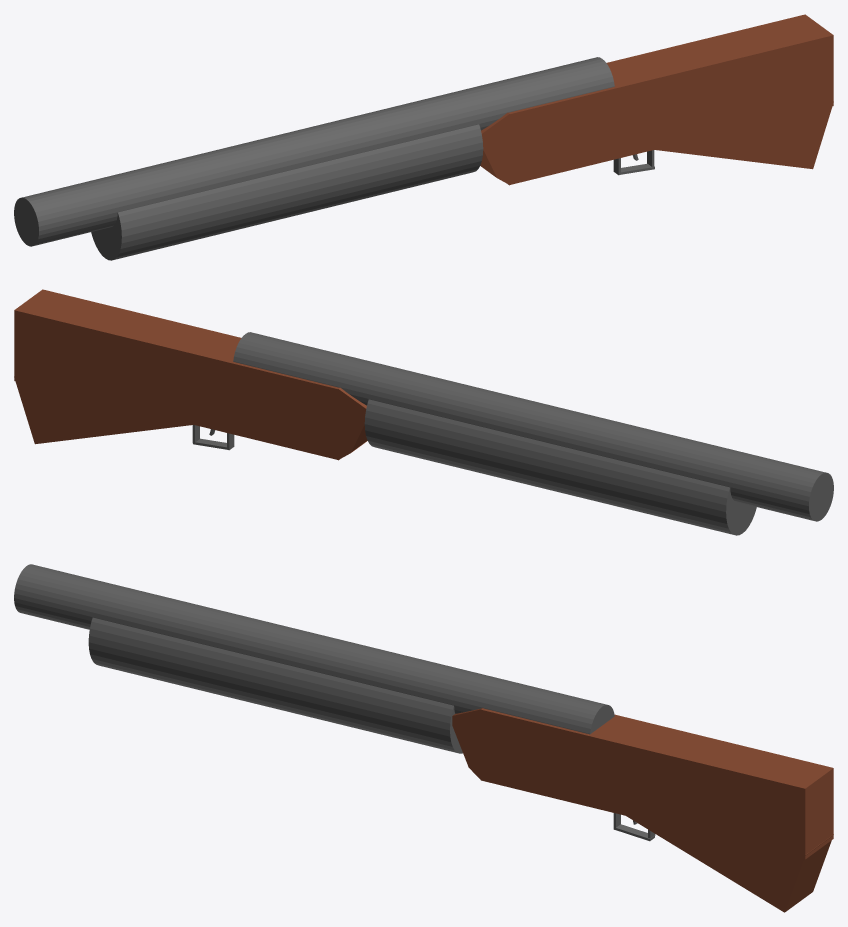
File: BasicShotgun.glb
The picture shows the model from 3 angles, top to bottom: view 1: azimuth 30°, elevation 25°; view 2: azimuth 150°, elevation 25°; view 3: azimuth 330°, elevation 25°; orthographic projection.
Parts seen in each view (by area): view 1: Cylinder, Cube.007, Cylinder.001, Cube.001, Cube.006; view 2: Cube.007, Cylinder, Cylinder.001, Cube.001, Cube.006; view 3: Cube.007, Cylinder, Cylinder.001, Cube.001, Cube.006.
Part boxes in pixels (bbox=[...]): Cylinder: bbox=[14, 57, 614, 246]; Cube.007: bbox=[508, 14, 833, 185]; Cylinder.001: bbox=[91, 124, 483, 260]; Cube.001: bbox=[653, 82, 833, 169]; Cube.006: bbox=[480, 112, 529, 177]; Cube.007: bbox=[14, 289, 339, 460]; Cylinder: bbox=[233, 332, 833, 521]; Cylinder.001: bbox=[364, 399, 756, 535]; Cube.001: bbox=[14, 357, 194, 444]; Cube.006: bbox=[334, 387, 367, 452]; Cube.007: bbox=[480, 708, 833, 859]; Cylinder: bbox=[14, 564, 614, 734]; Cylinder.001: bbox=[88, 617, 462, 753]; Cube.001: bbox=[624, 758, 833, 912]; Cube.006: bbox=[452, 708, 485, 767].
Size of the model in its own units: 0.9405 by 0.1676 by 0.0684.
